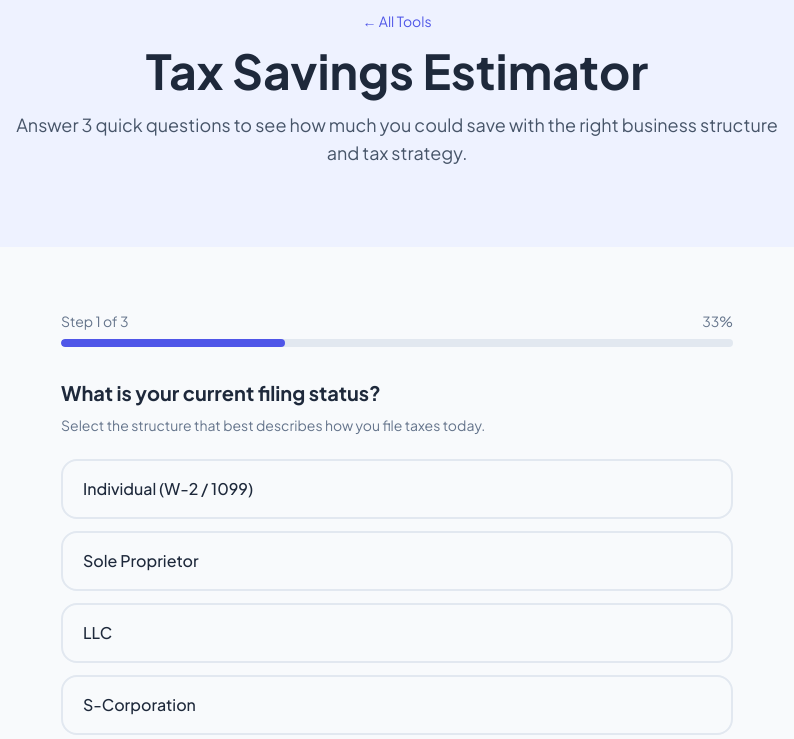
Test case: TaxSavingsEstimator – step navigation › selecting revenue advances to step 3
Click the button "LLC" at (98, 632), box [61,603,733,663]
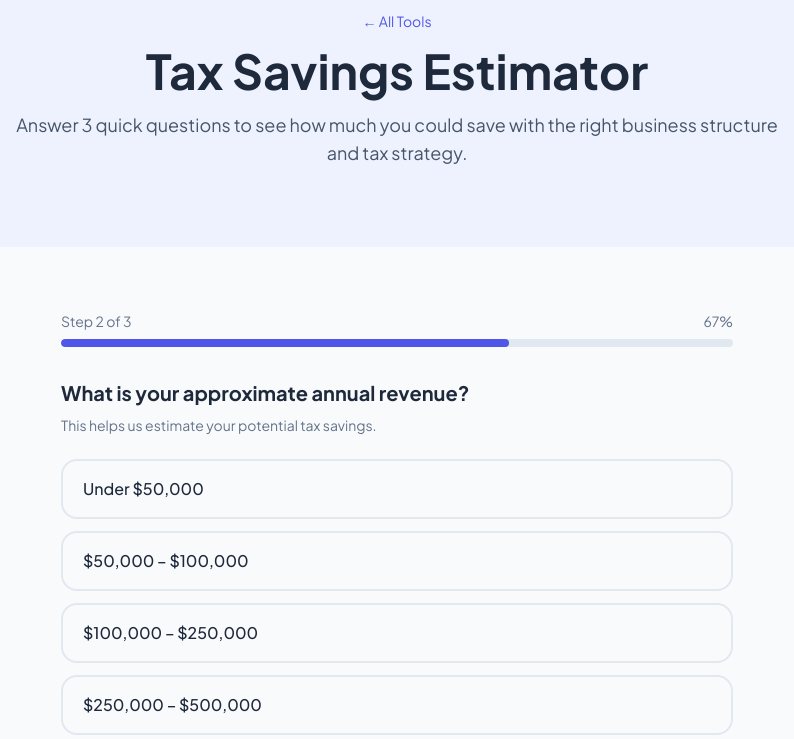
Click the button "Under $50,000" at (143, 488), box [61,459,733,519]
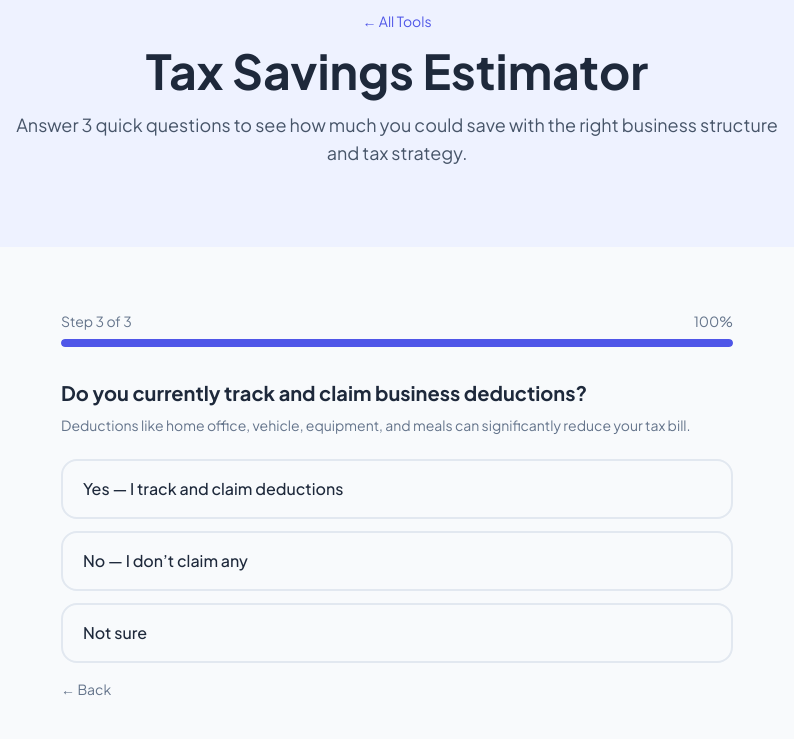
Now the text "Step 3 of 3" is shown, box [61,311,132,331]
Now the heading "Do you currently track and claim business deductions?" is shown, box [61,380,587,405]
